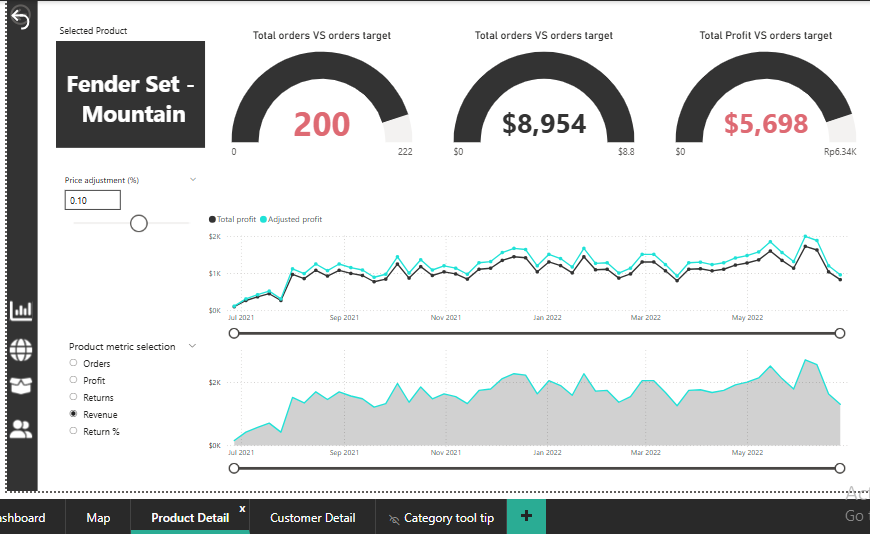

Layout of this report page (visuals, bound fields, positions):
{"tool":"powerbi","page":{"name":"Product Detail","canvas":[1280,720],"ordinal":2},"visuals":[{"type":"shape","box":[0,0,45,720.7],"z":0},{"type":"actionButton","box":[0,434.9,119,41.1],"z":0,"group":"g1"},{"type":"gauge","title":"Total orders VS orders target","fields":{"Y":["Measure tables(DAX).Total orders"],"MaxValue":["Measure tables(DAX).orders target"]},"box":[324.7,41.1,276.2,208.7],"z":1000},{"type":"actionButton","box":[0,492.2,119,41.1],"z":1000,"group":"g1"},{"type":"gauge","title":"Total Profit VS orders target","fields":{"Y":["Measure tables(DAX).Total profit"],"MaxValue":["Measure tables(DAX).profi target"]},"box":[977.1,41.1,276.2,208.7],"z":2000},{"type":"actionButton","box":[0,545.1,119,41.1],"z":2000,"group":"g1"},{"type":"lineChart","title":"Profit Trending","fields":{"Category":["Calendar Lookup.Date Hierarchy.Start of Year","Calendar Lookup.Date Hierarchy.Start of Month","Calendar Lookup.Date Hierarchy.Start of Week"],"Y":["Measure tables(DAX).Total profit","Measure tables(DAX).Adjusted profit"]},"box":[290.9,301.2,962.4,198.4],"z":3000},{"type":"actionButton","box":[0,608.3,119,41.1],"z":3000,"group":"g1"},{"type":"areaChart","title":"Returns Trending","fields":{"Category":["Calendar Lookup.Date Hierarchy.Start of Year","Calendar Lookup.Date Hierarchy.Start of Month","Calendar Lookup.Date Hierarchy.Start of Week"],"Y":["Measure tables(DAX).Total revenue"]},"box":[290.9,499.6,962.4,198.4],"z":4000},{"type":"actionButton","box":[0,0,100,40],"z":5000},{"type":"card","fields":{"Values":["Min(Product Lookup.ProductName)"]},"box":[72,58.8,218.9,157.2],"z":6000},{"type":"textbox","box":[72,29.4,149.9,29.4],"z":7000},{"type":"gauge","title":"Total orders VS orders target","fields":{"Y":["Measure tables(DAX).Total revenue"],"MaxValue":["Measure tables(DAX).revenue target"]},"box":[650.9,41.1,276.2,208.7],"z":8000},{"type":"actionButton","box":[0,7.3,99.9,39.7],"z":9000},{"type":"group","id":"g1","title":"Navigation Button","box":[0,434.9,119,214.5],"z":10000},{"type":"slicer","fields":{"Values":["Price adjustment (%).Price adjustment (%)"]},"box":[72,249.8,218.9,117.6],"z":11000},{"type":"slicer","fields":{"Values":["Product metric selection.Product metric selection"]},"box":[77.9,492.2,213.1,192.5],"z":11001}]}

Visuals, with their boxes on the page's 1280x720 design canvas (x1, y1, x2, y2). These are canvas units, not pixel positions in the 870x534 screenshot, which may show the page scaled, cropped or inside an application window:
shape: x1=0, y1=0, x2=45, y2=721
actionButton: x1=0, y1=435, x2=119, y2=476
"Total orders VS orders target" gauge: x1=325, y1=41, x2=601, y2=250
actionButton: x1=0, y1=492, x2=119, y2=533
"Total Profit VS orders target" gauge: x1=977, y1=41, x2=1253, y2=250
actionButton: x1=0, y1=545, x2=119, y2=586
"Profit Trending" lineChart: x1=291, y1=301, x2=1253, y2=500
actionButton: x1=0, y1=608, x2=119, y2=649
"Returns Trending" areaChart: x1=291, y1=500, x2=1253, y2=698
actionButton: x1=0, y1=0, x2=100, y2=40
card - Min(Product Lookup.ProductName): x1=72, y1=59, x2=291, y2=216
textbox: x1=72, y1=29, x2=222, y2=59
"Total orders VS orders target" gauge: x1=651, y1=41, x2=927, y2=250
actionButton: x1=0, y1=7, x2=100, y2=47
"Navigation Button" group: x1=0, y1=435, x2=119, y2=649
slicer - Price adjustment (%).Price adjustment (%): x1=72, y1=250, x2=291, y2=367
slicer - Product metric selection.Product metric selection: x1=78, y1=492, x2=291, y2=685
